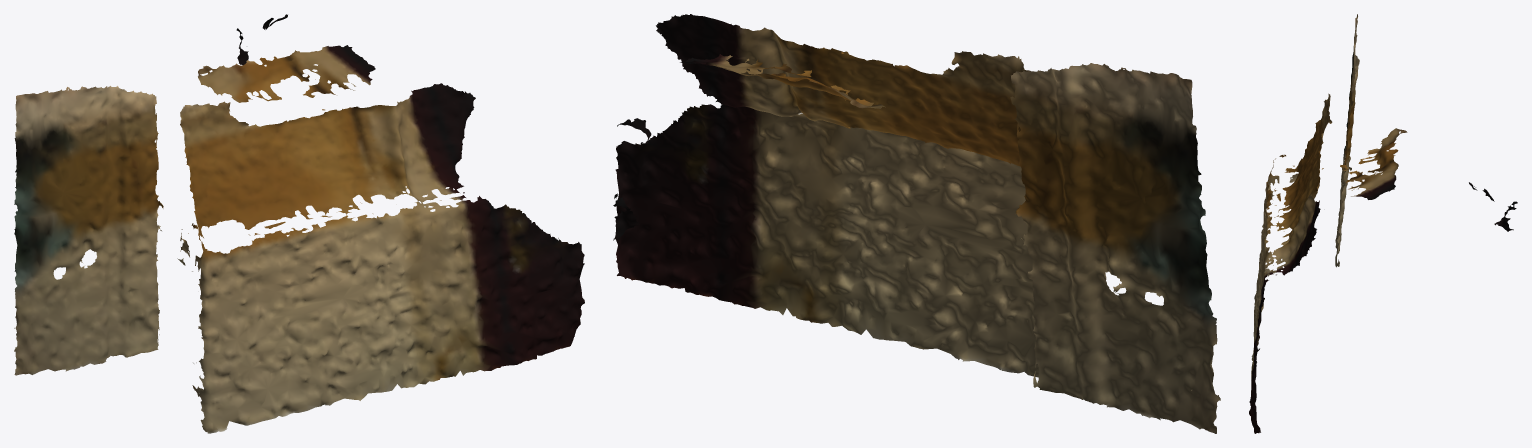
File: color_model_f005_20260211_234603.obj
3 views of the same model, side by side, from view 1: azimuth 30°, elevation 25°; view 2: azimuth 150°, elevation 25°; view 3: azimuth 270°, elevation 25° (orthographic). The views are drawn at different scales.
Size of the model in its own units: 2.11 by 1.27 by 1.27.
